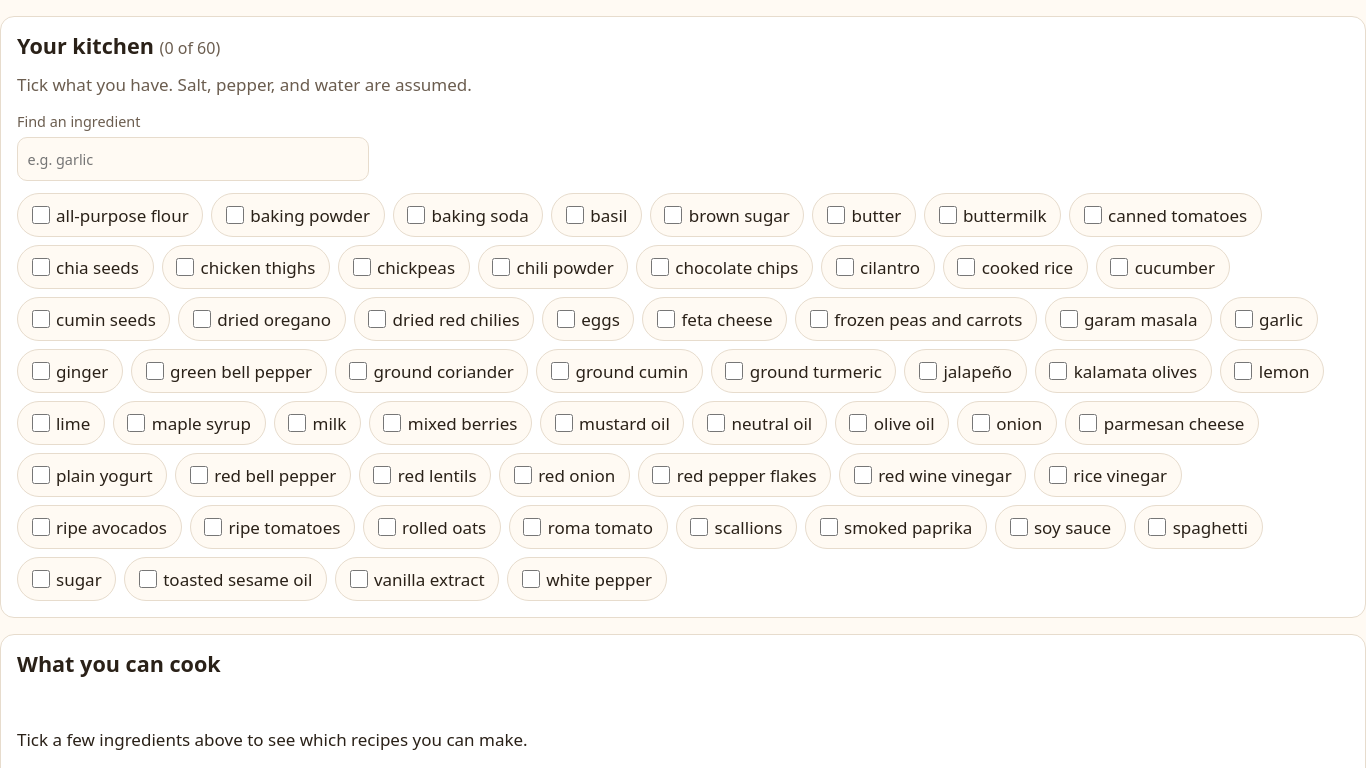
PantryView › filters the ingredient list
This screenshot has width=1366, height=768.
In the search field labelled "Find an ingredient": (193, 159) [17,137,369,181], type "oil"
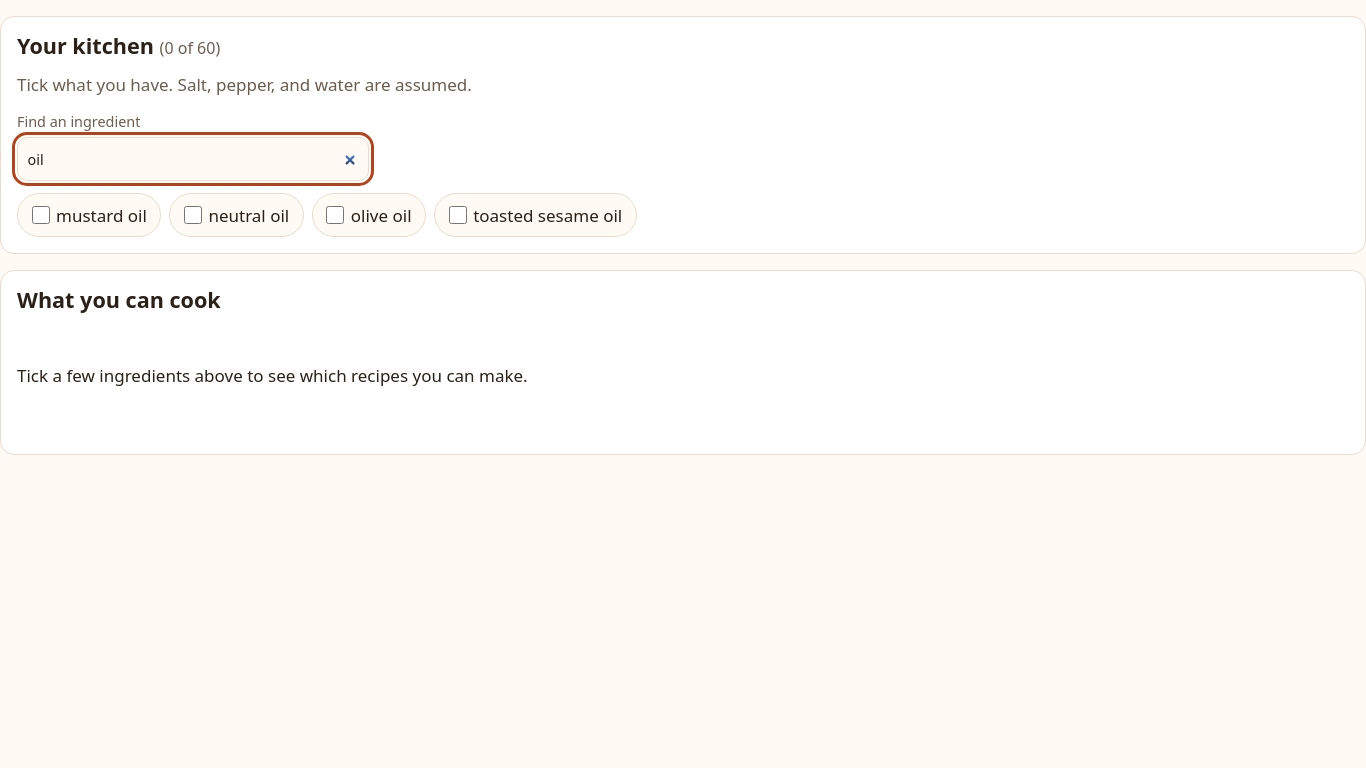
Check: the label "mustard oil" is shown, box [56,204,147,226]
Check: the label "neutral oil" is shown, box [208,204,289,226]
Replace the text in the search field labelled "Find an ingredient" with "zzz": (193, 159) [17,137,369,181]
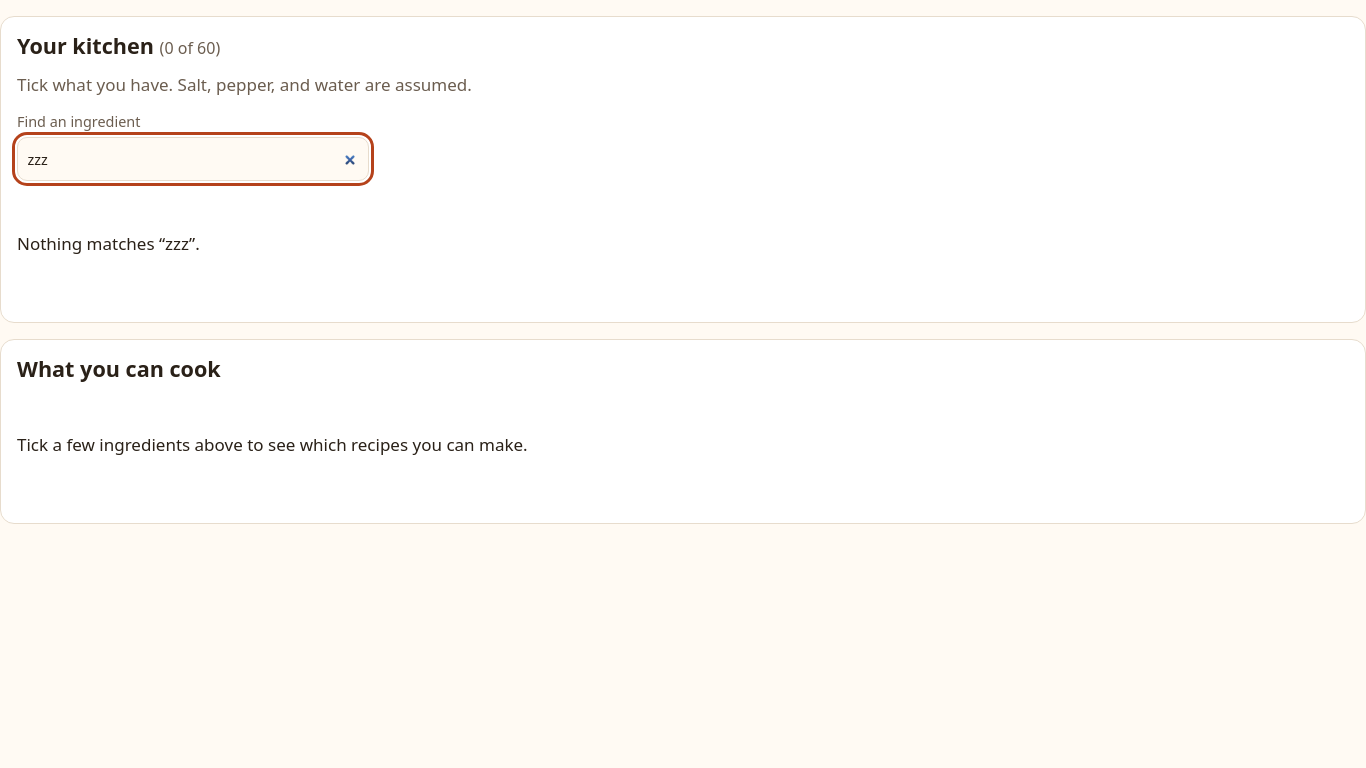
Check: the text "Nothing matches “zzz”." is shown, box [17,232,200,255]
